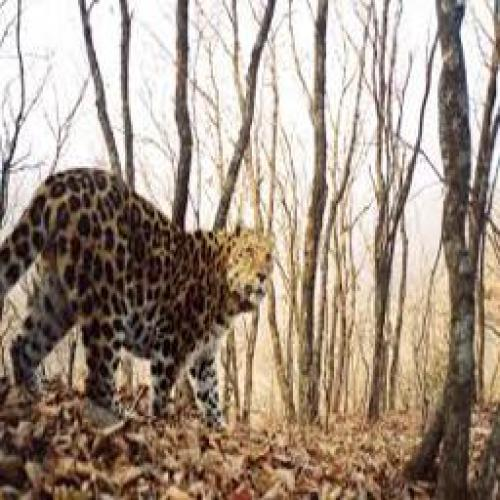amur_leopard-endangered: (1, 163, 281, 415)
